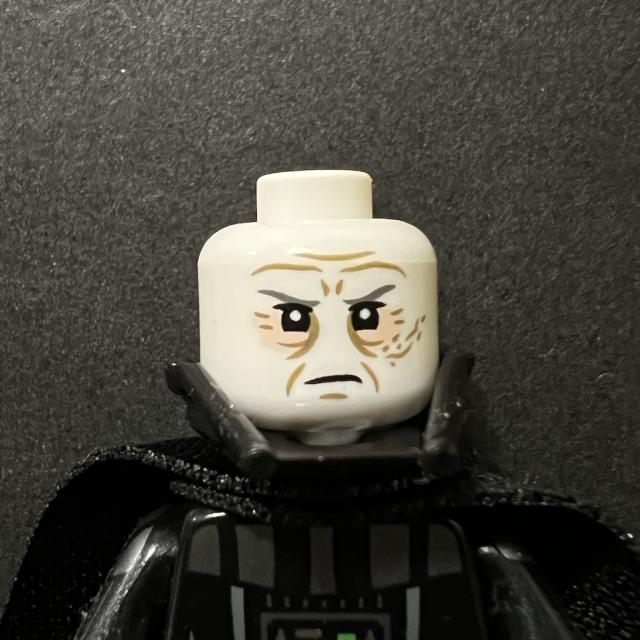alien: (185, 166, 472, 495)
